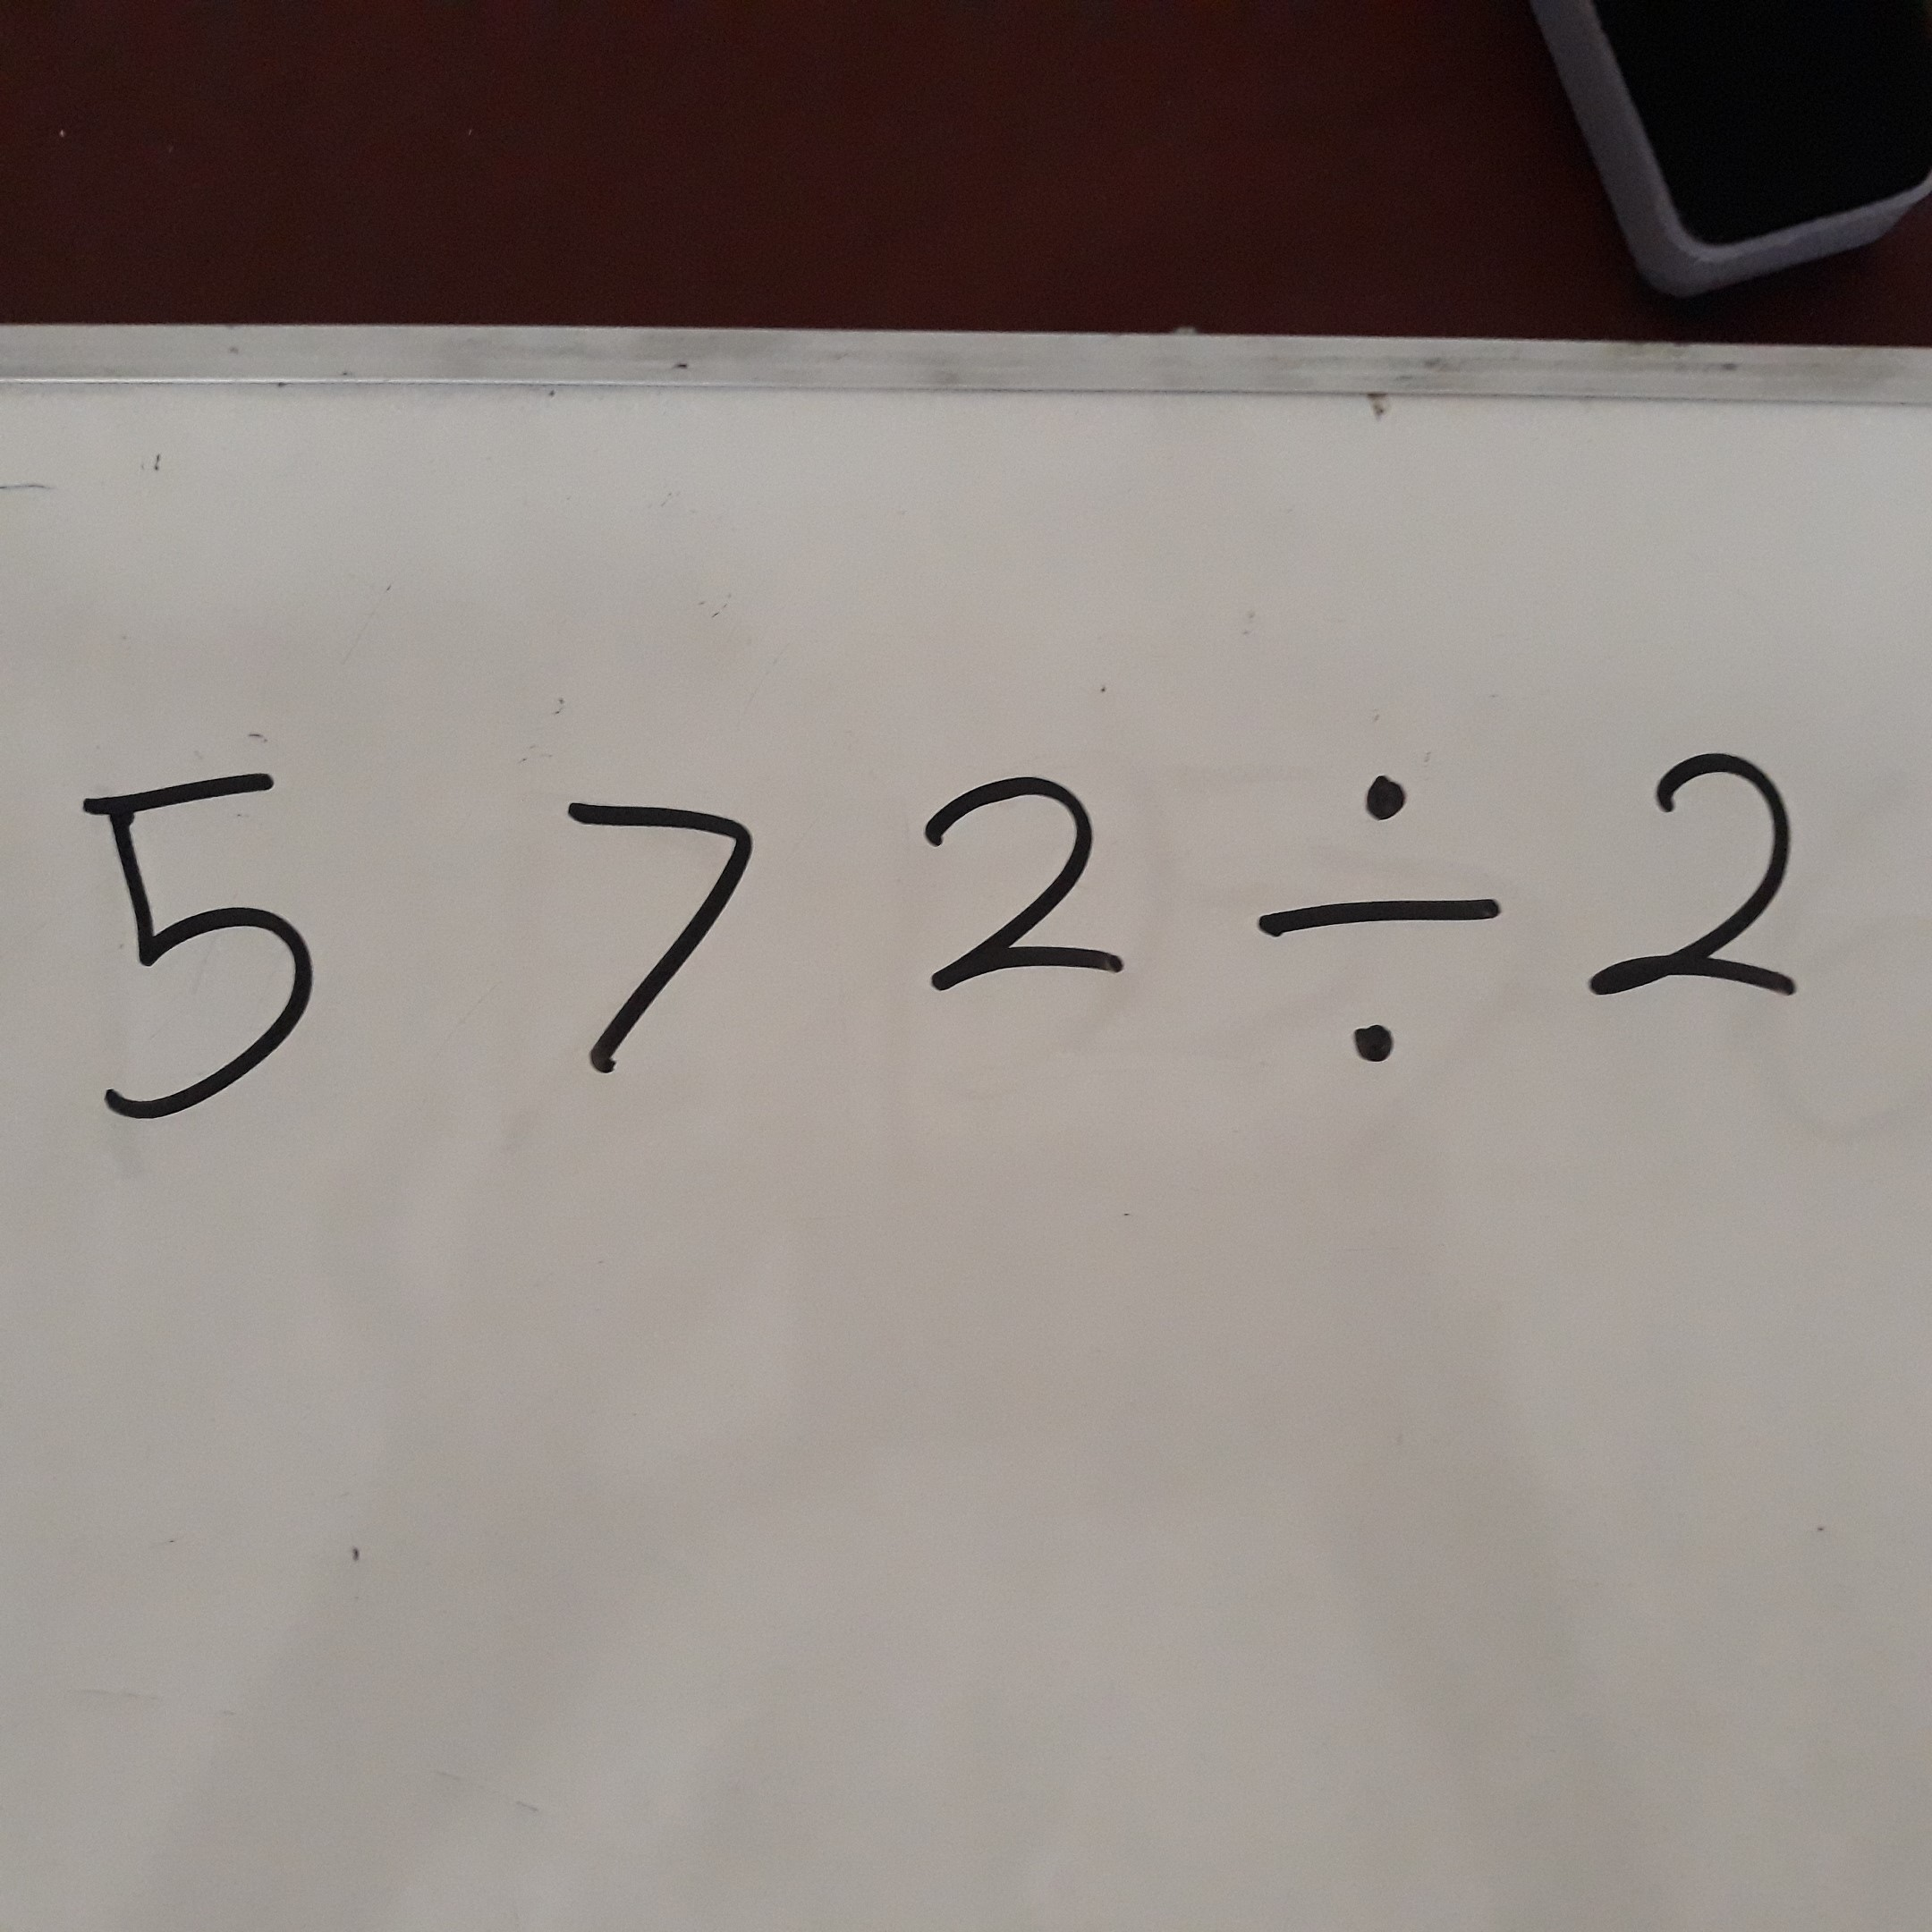div: (1239, 767, 1515, 1081)
morethan: (515, 750, 768, 1088)
num2: (1561, 728, 1837, 1043), (885, 759, 1135, 1055)
num5: (55, 754, 351, 1155)
